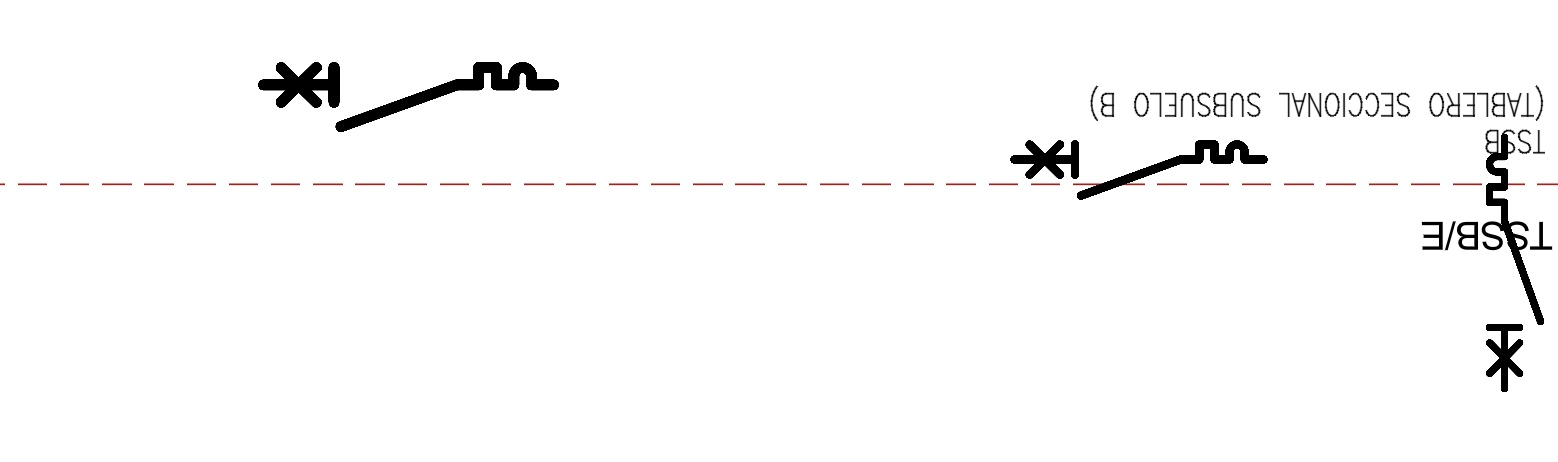interruptor_termomagnetico: (256, 60, 561, 134), (1483, 131, 1547, 395), (1008, 138, 1270, 202)
